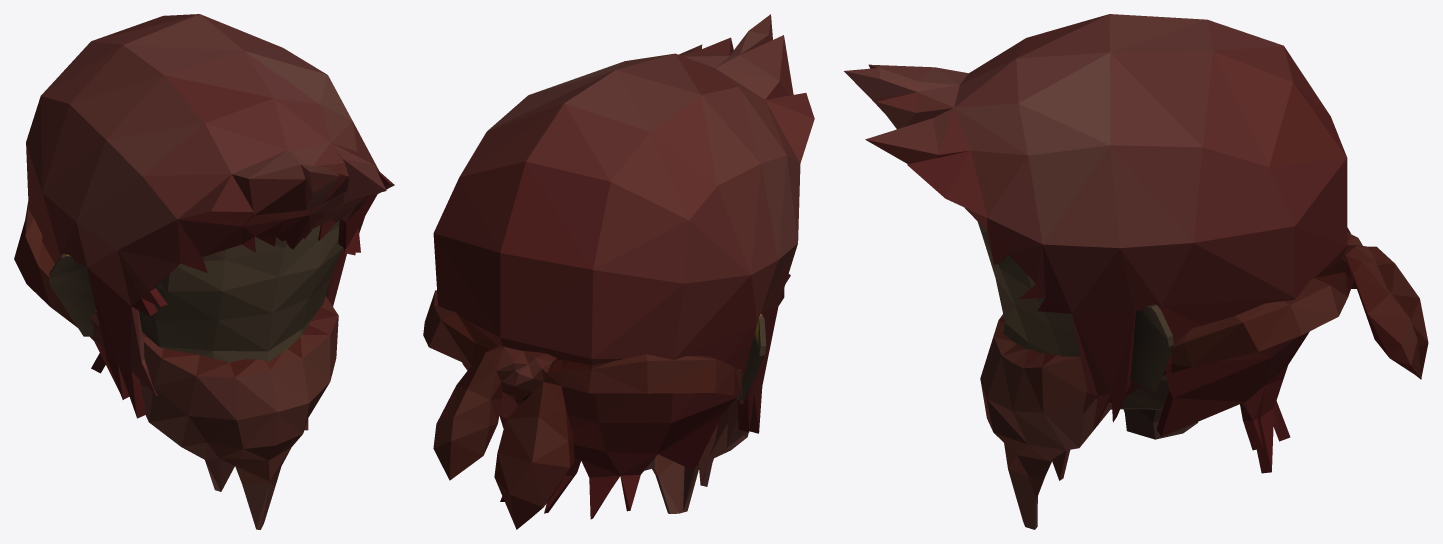
Rendered from helm_darkskin_standard_red_bandana.fbx.
3 views of the same model, side by side, from view 1: azimuth 30°, elevation 25°; view 2: azimuth 150°, elevation 25°; view 3: azimuth 270°, elevation 25° (orthographic). The views are drawn at different scales.
Visible parts, largest first — view 1: helm_darkskin_standard_red_bandana; view 2: helm_darkskin_standard_red_bandana; view 3: helm_darkskin_standard_red_bandana.
Boxes of the visible parts, box(x1,y1,x2,y2) form: helm_darkskin_standard_red_bandana: box(14, 14, 394, 529); helm_darkskin_standard_red_bandana: box(423, 14, 814, 529); helm_darkskin_standard_red_bandana: box(844, 14, 1428, 529).
Bounding box in the file's own units: 1.13 × 1.66 × 1.8.
